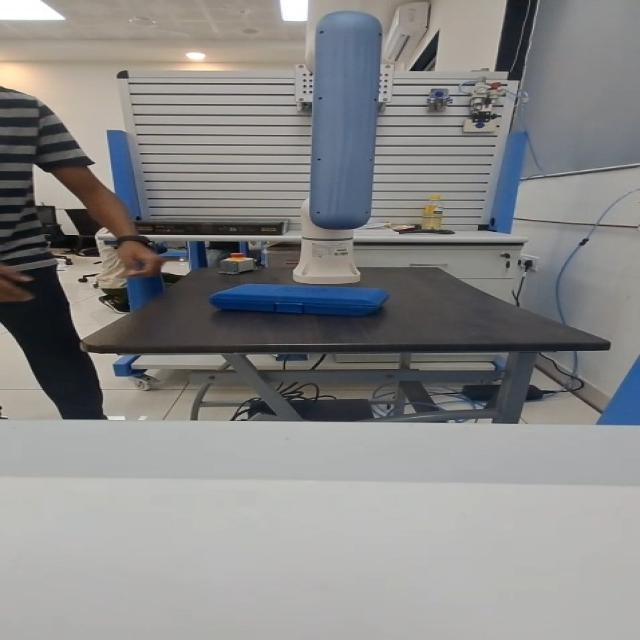top-surface: (242, 284, 364, 296)
